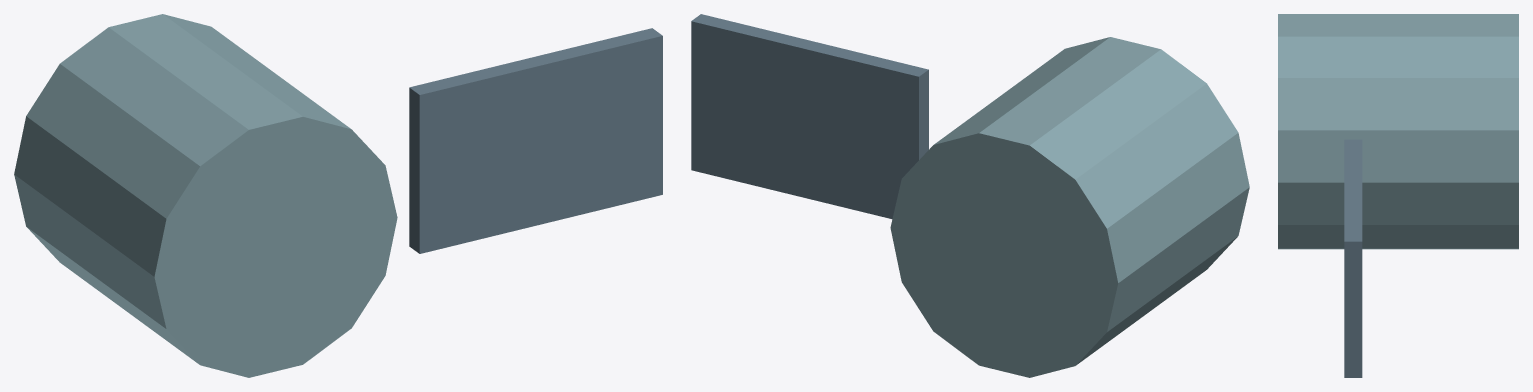
The model's file is sustainable-module-eco.glb.
3 renders of one model, left to right at view 1: azimuth 30°, elevation 25°; view 2: azimuth 150°, elevation 25°; view 3: azimuth 270°, elevation 25°, orthographic. The views are drawn at different scales.
Parts seen in each view (by area): view 1: tank, panel; view 2: tank, panel; view 3: tank, panel.
Boxes of the visible parts, x1=… form: tank: x1=14, y1=14, x2=397, y2=377; panel: x1=409, y1=28, x2=662, y2=253; tank: x1=890, y1=37, x2=1249, y2=377; panel: x1=691, y1=14, x2=928, y2=218; tank: x1=1278, y1=14, x2=1518, y2=249; panel: x1=1344, y1=139, x2=1362, y2=377.
Size of the model in its own units: 1.8 by 0.7799 by 0.8.
